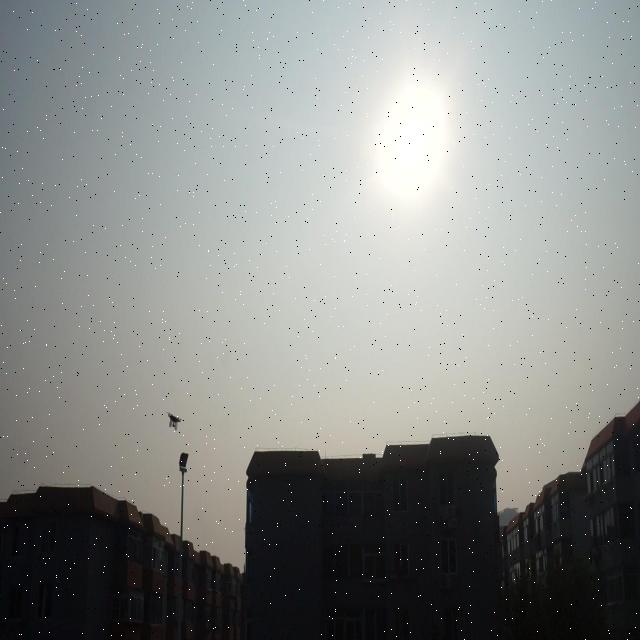UAV: (165, 411, 183, 430)
